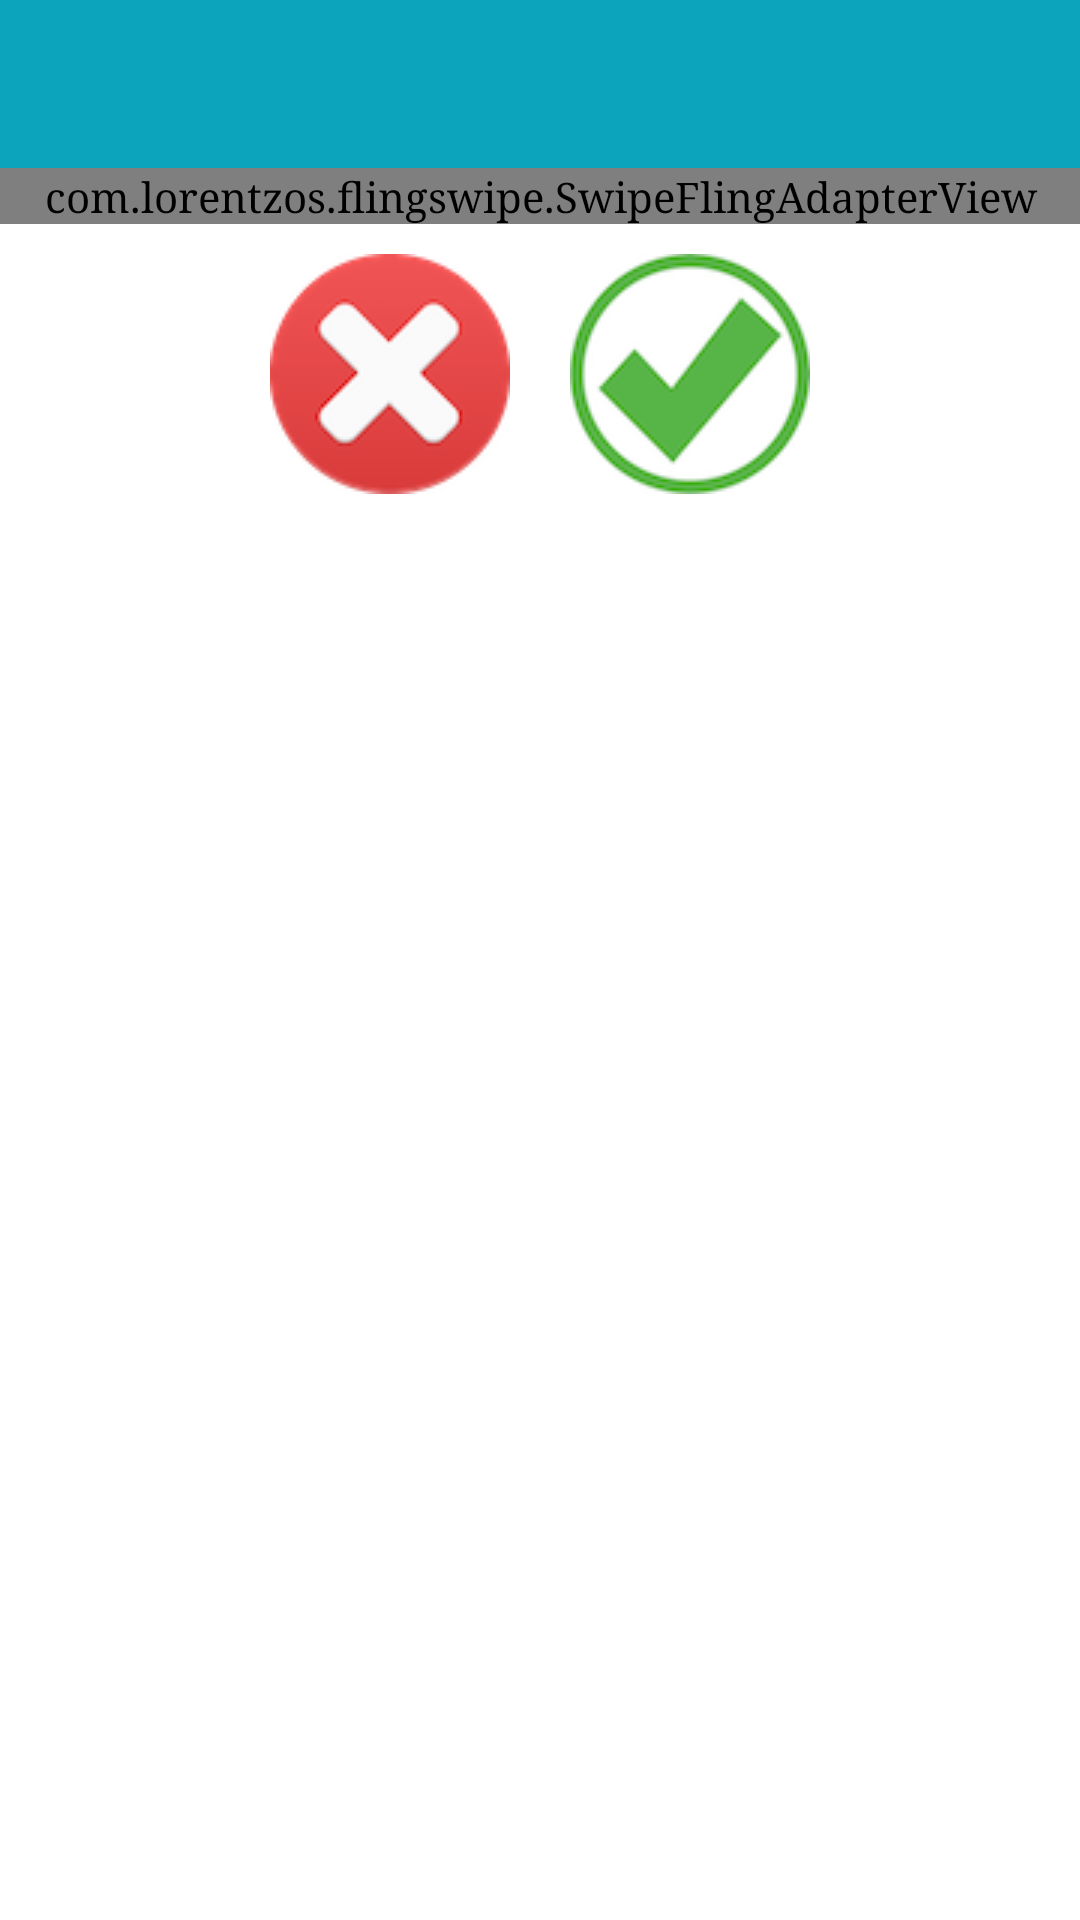

Where to tap for icons on this 1080px x 1920px app screen, as [x,y]:
dislike: [390,374]
like: [690,374]
